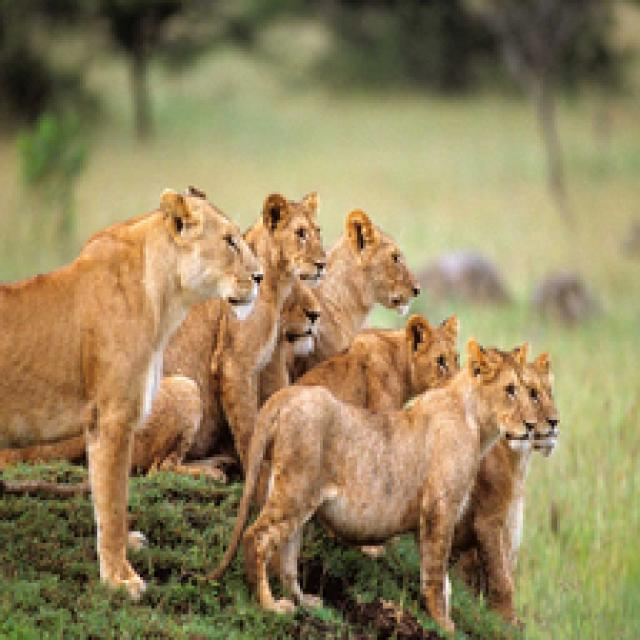lion: (0, 191, 243, 640), (260, 376, 550, 607), (298, 369, 582, 480), (180, 184, 341, 364), (283, 198, 434, 323), (294, 309, 472, 406)
